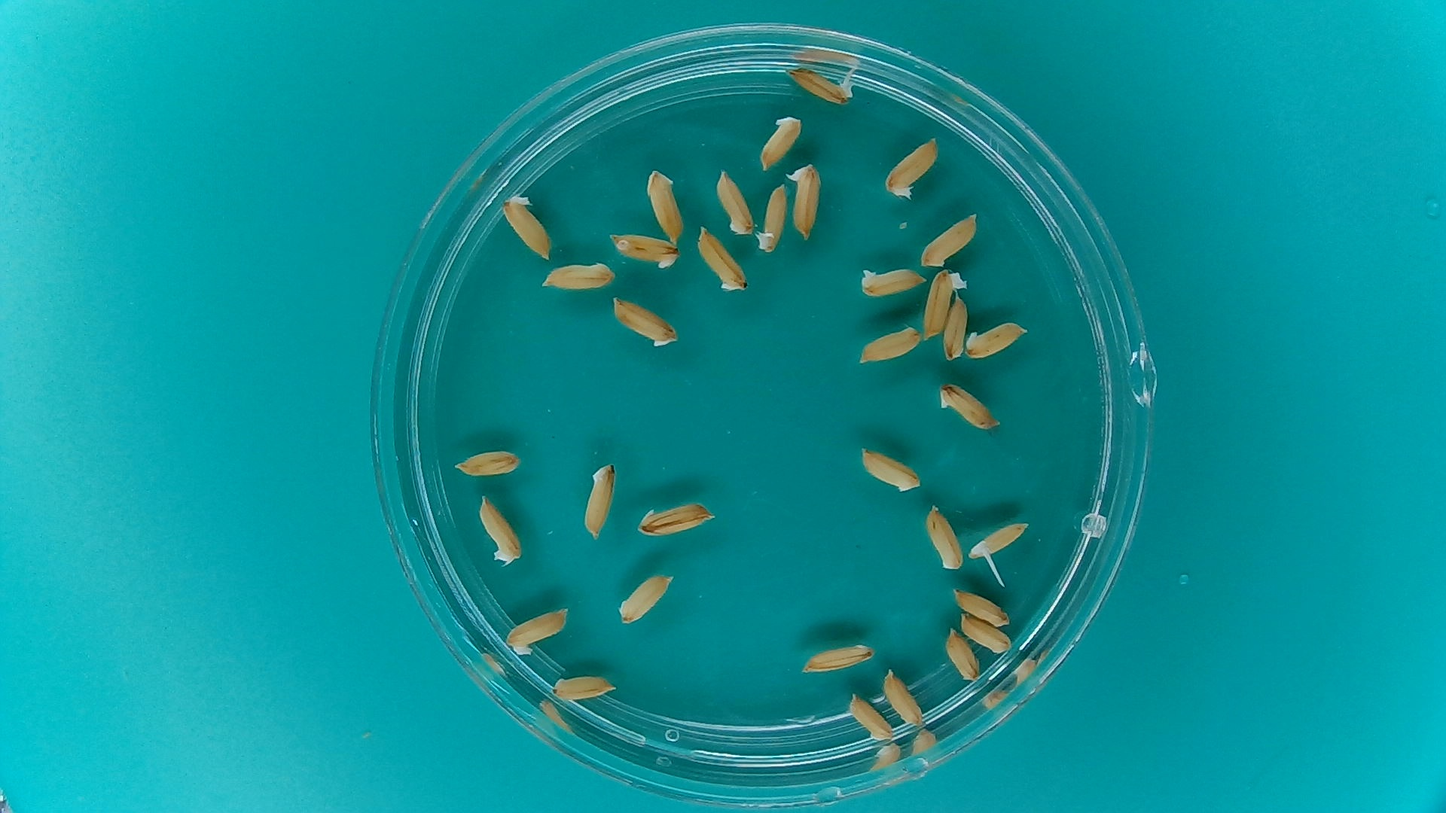no: (474, 489, 528, 571), (497, 189, 556, 263), (608, 292, 682, 351), (882, 133, 943, 201), (694, 223, 749, 296), (642, 164, 688, 248), (502, 604, 574, 657), (935, 377, 1003, 432), (918, 209, 981, 268), (634, 498, 719, 541), (921, 265, 969, 340), (615, 569, 676, 628), (787, 158, 827, 245), (856, 443, 924, 494), (712, 164, 758, 239), (755, 109, 807, 172), (797, 636, 878, 676), (581, 462, 620, 544), (962, 318, 1033, 363), (853, 324, 925, 368), (923, 501, 966, 574), (608, 228, 682, 270), (880, 664, 927, 729), (855, 260, 930, 300), (947, 586, 1014, 629), (538, 258, 618, 294), (547, 667, 621, 705), (755, 180, 792, 256), (844, 691, 896, 744), (957, 614, 1014, 657), (451, 446, 524, 479), (939, 291, 971, 362), (943, 626, 981, 685)
yes: (785, 63, 858, 107), (966, 519, 1026, 560)
